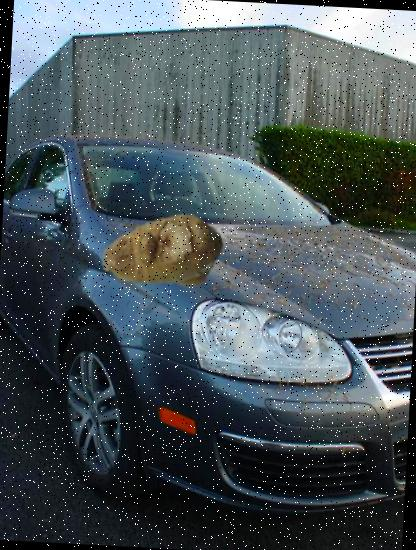Ginger: (99, 191, 227, 320)
